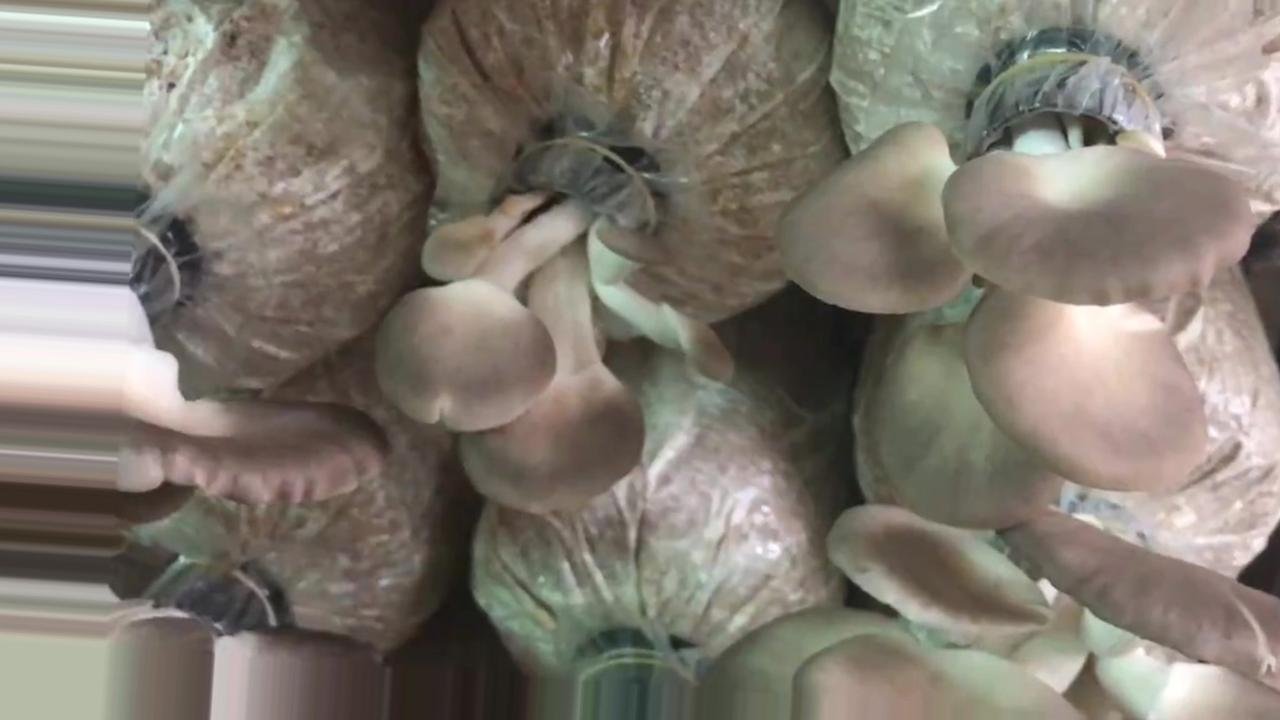nam: (782, 45, 1249, 528), (384, 116, 711, 507), (707, 513, 1280, 720), (1, 206, 391, 501), (1, 560, 382, 719)
